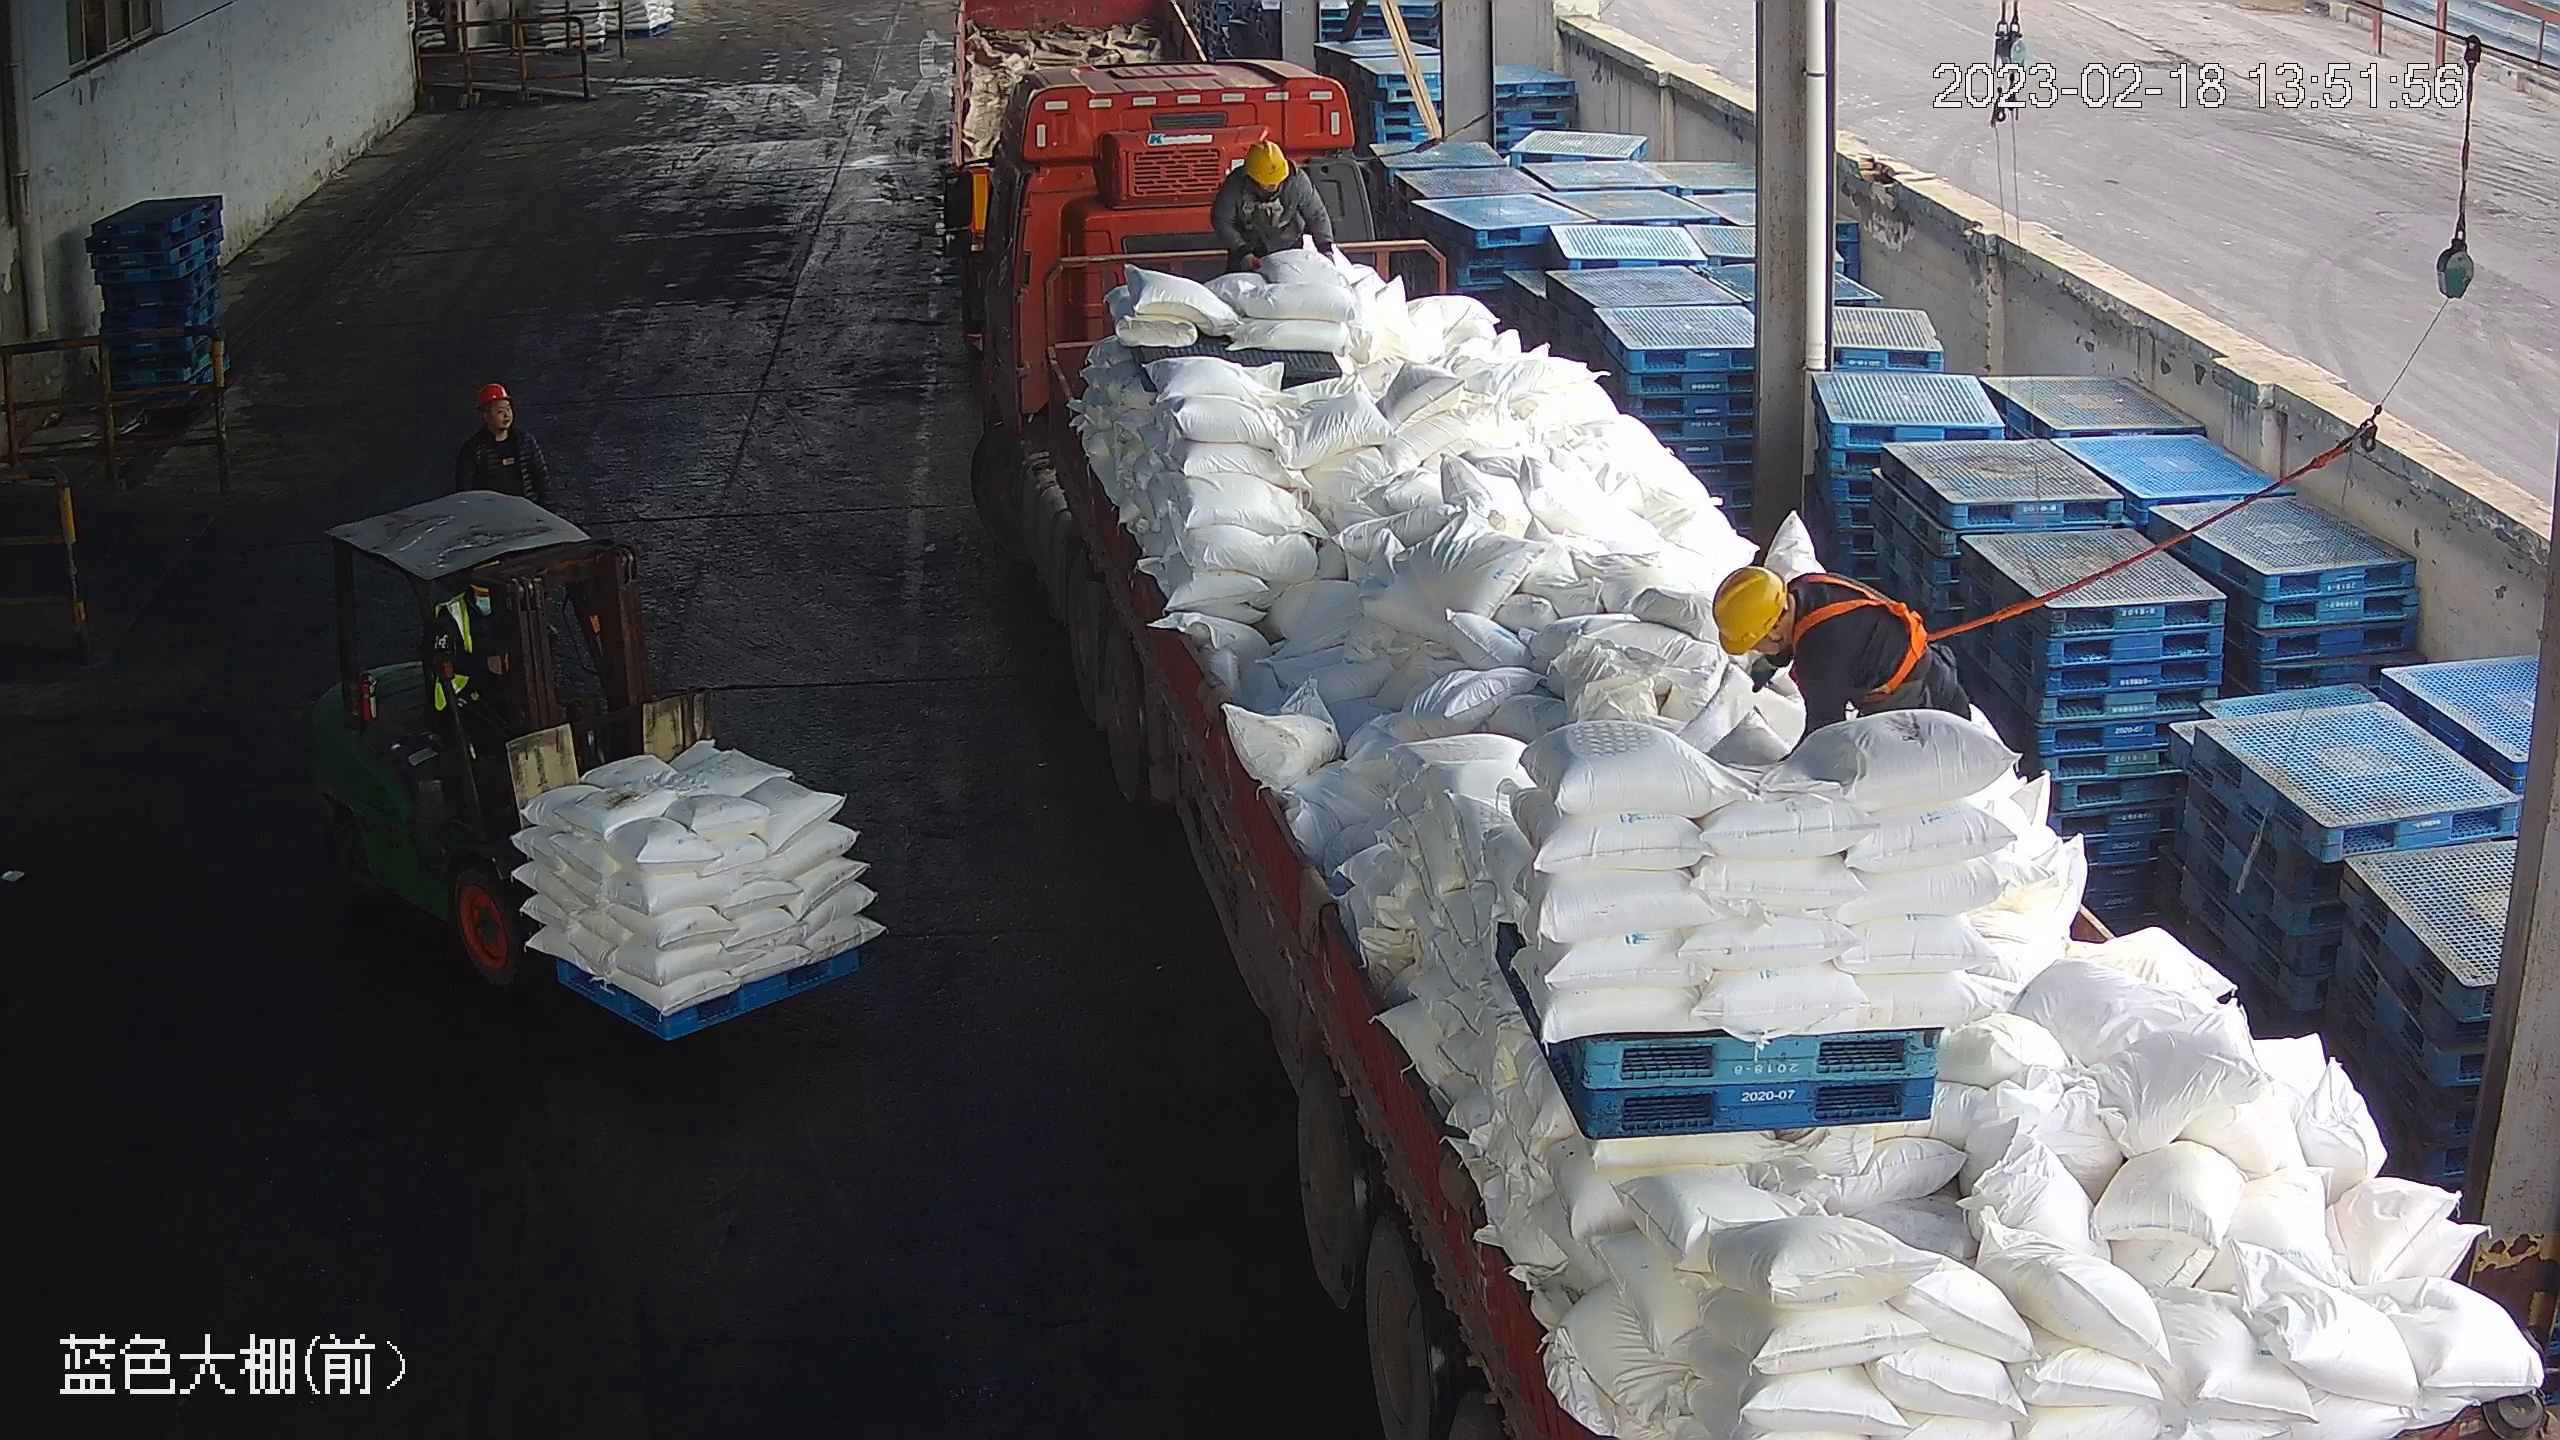belt: (1788, 575, 1961, 703), (1239, 192, 1280, 225)
head: (1713, 568, 1871, 688), (1206, 141, 1319, 217), (454, 384, 545, 469)
helmet: (1711, 568, 1786, 657), (1243, 140, 1288, 183), (477, 382, 508, 409)
people: (1714, 567, 1974, 747)
truck: (944, 57, 2560, 1440)
